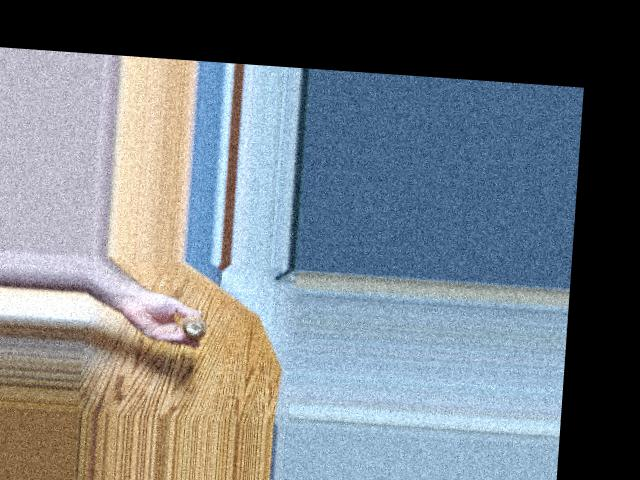sweet_potato: (181, 311, 213, 337)
